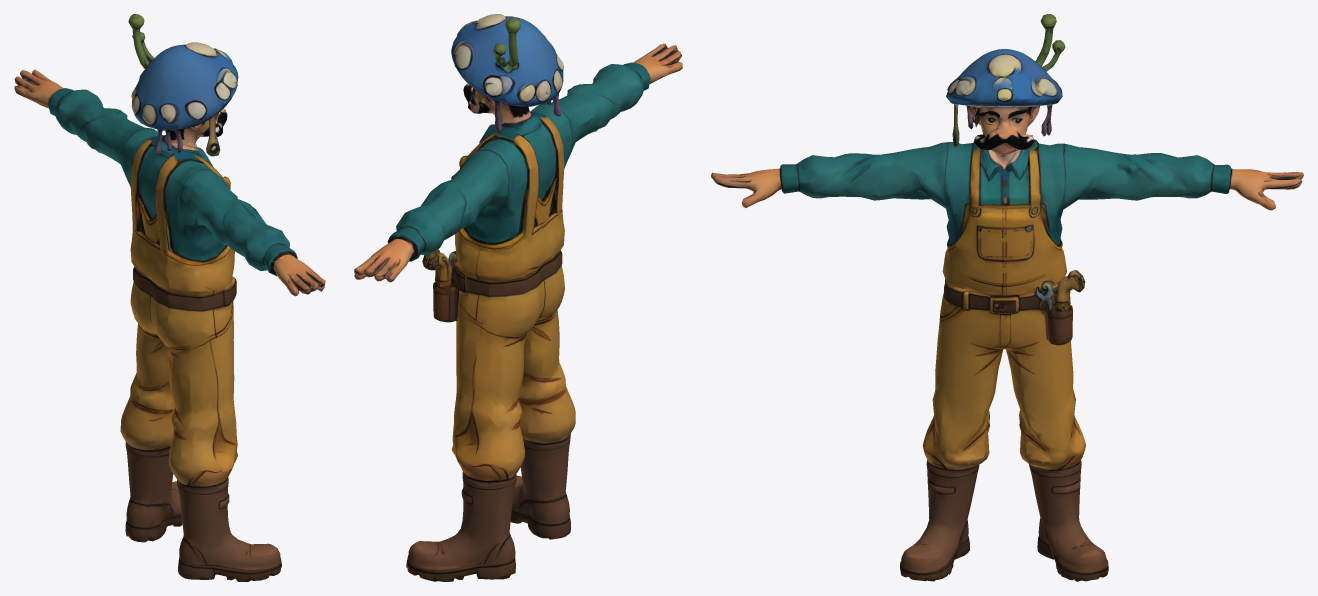
The model's file is n2_plumber.e8cee335.glb.
The picture shows the model from 3 angles, left to right: view 1: azimuth 30°, elevation 25°; view 2: azimuth 150°, elevation 25°; view 3: azimuth 270°, elevation 25°; orthographic projection. The views are drawn at different scales.
Visible parts, largest first — view 1: tripo_node_d3130d9e-cd67-43eb-bee3-b988c18e11e1; view 2: tripo_node_d3130d9e-cd67-43eb-bee3-b988c18e11e1; view 3: tripo_node_d3130d9e-cd67-43eb-bee3-b988c18e11e1.
Part boxes in pixels (box(x1,y1,x2,y2)): tripo_node_d3130d9e-cd67-43eb-bee3-b988c18e11e1: box(14, 14, 325, 581); tripo_node_d3130d9e-cd67-43eb-bee3-b988c18e11e1: box(354, 14, 682, 581); tripo_node_d3130d9e-cd67-43eb-bee3-b988c18e11e1: box(711, 14, 1303, 581).
Bounding box in the file's own units: 0.1925 × 0.9872 × 0.9988.
1 material, 1 textured.
